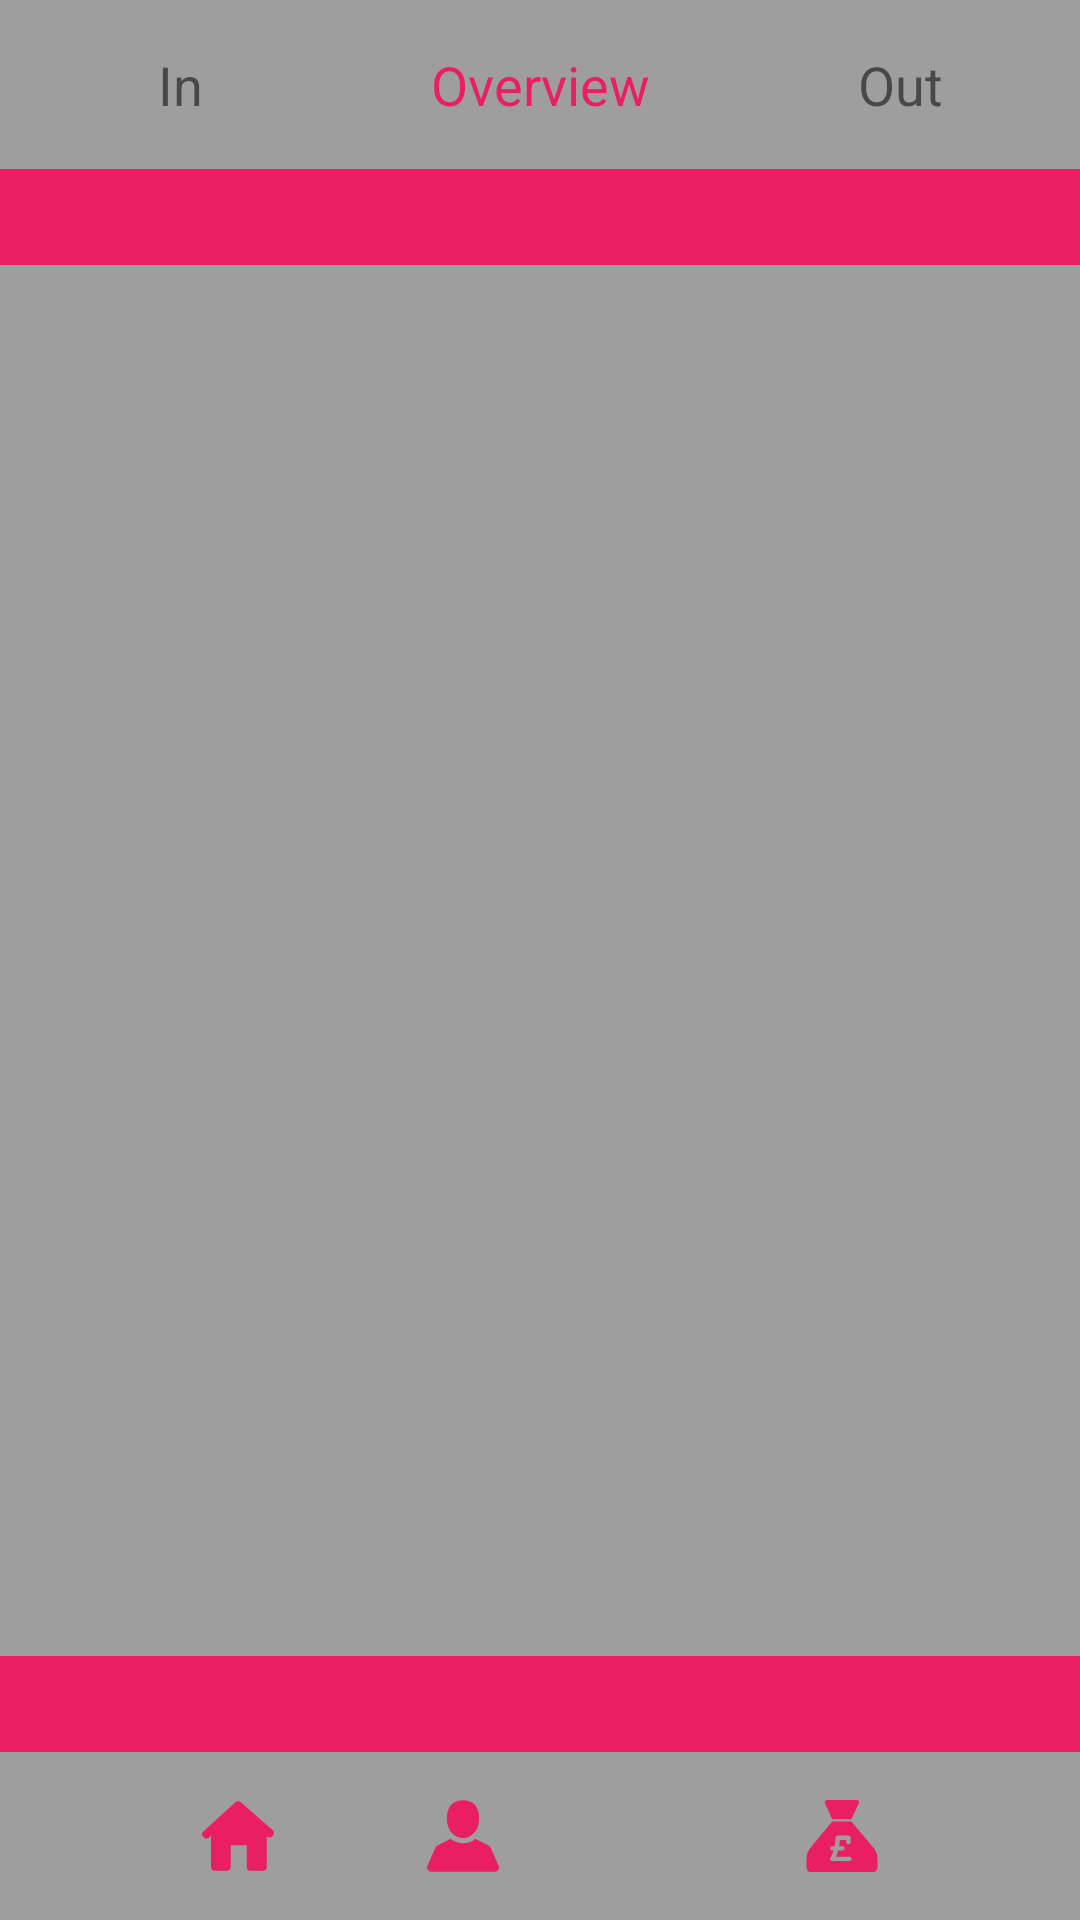

Icon bounding boxes for this 1080*1920 phone screenshot, format (x1, y1, x2, y2):
home: (202, 1801, 274, 1871)
money: (806, 1800, 878, 1872)
person: (427, 1800, 499, 1872)
